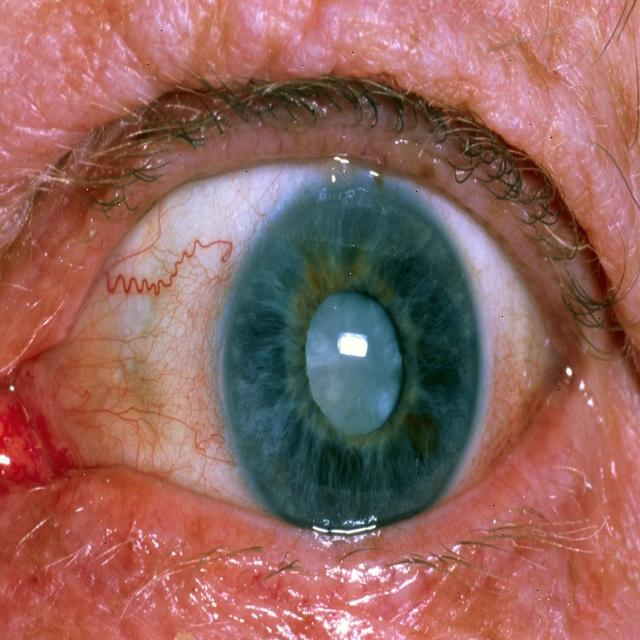Cataract: (216, 180, 481, 554)
